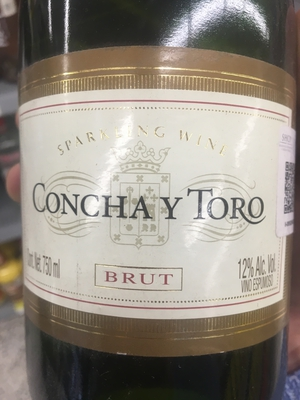brut: (19, 4, 300, 391)
